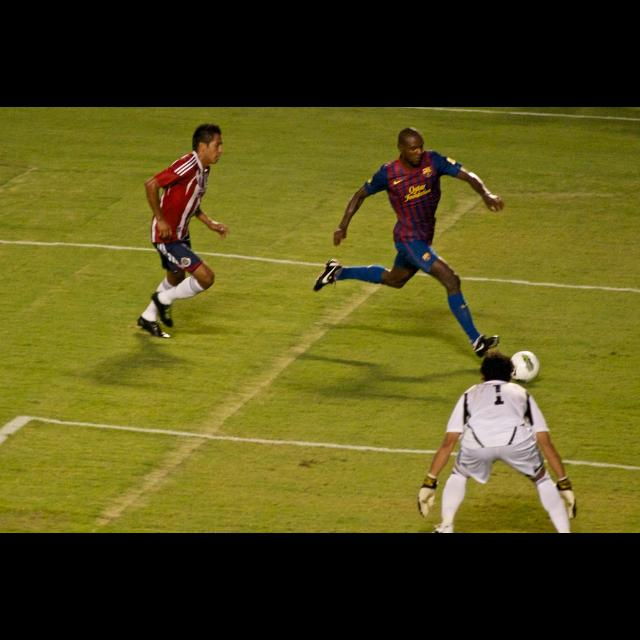Football: (509, 350, 539, 380)
